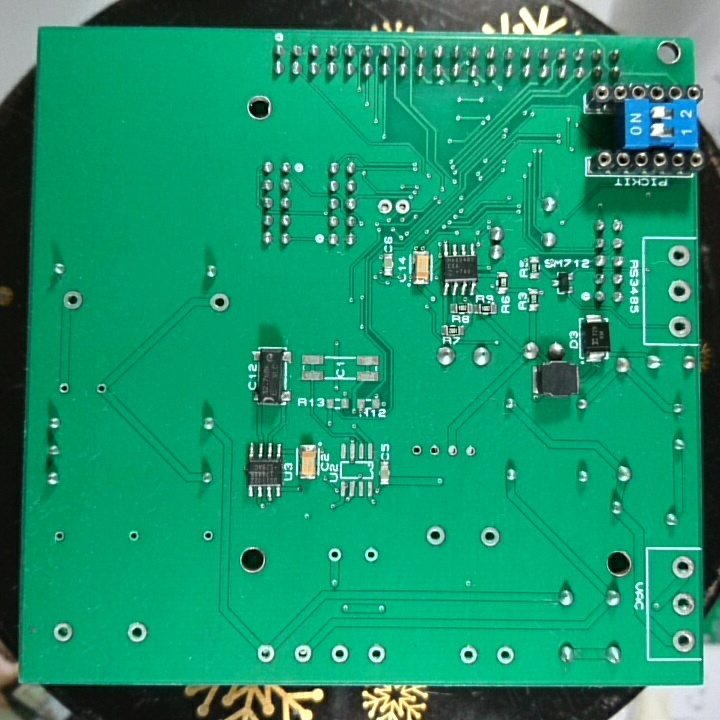F: (670, 627, 698, 656), (665, 277, 693, 305), (666, 313, 695, 340), (665, 242, 694, 269), (670, 590, 697, 618), (123, 620, 151, 646), (669, 554, 697, 580), (50, 621, 78, 646), (456, 642, 482, 668), (60, 287, 85, 314), (208, 289, 232, 317), (478, 524, 502, 552), (365, 643, 390, 668), (425, 523, 448, 550), (328, 641, 351, 666), (254, 642, 277, 666), (494, 643, 517, 666), (291, 643, 315, 664), (362, 544, 381, 566), (393, 197, 412, 218), (325, 546, 345, 565), (425, 441, 443, 462), (409, 440, 425, 463), (462, 442, 480, 462), (376, 197, 393, 217), (94, 380, 111, 398), (125, 527, 141, 546), (200, 527, 216, 546), (444, 441, 460, 460), (51, 529, 68, 546), (57, 380, 71, 398)
